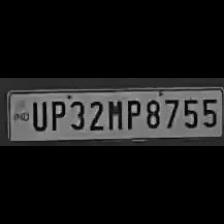2: (86, 97, 104, 130)
3: (66, 97, 86, 131)
5: (179, 96, 199, 128), (200, 94, 218, 128)
7: (162, 97, 178, 129)
8: (142, 96, 160, 130)
M: (105, 97, 123, 131)
P: (122, 96, 142, 130), (47, 97, 65, 131)
U: (28, 97, 48, 130)
